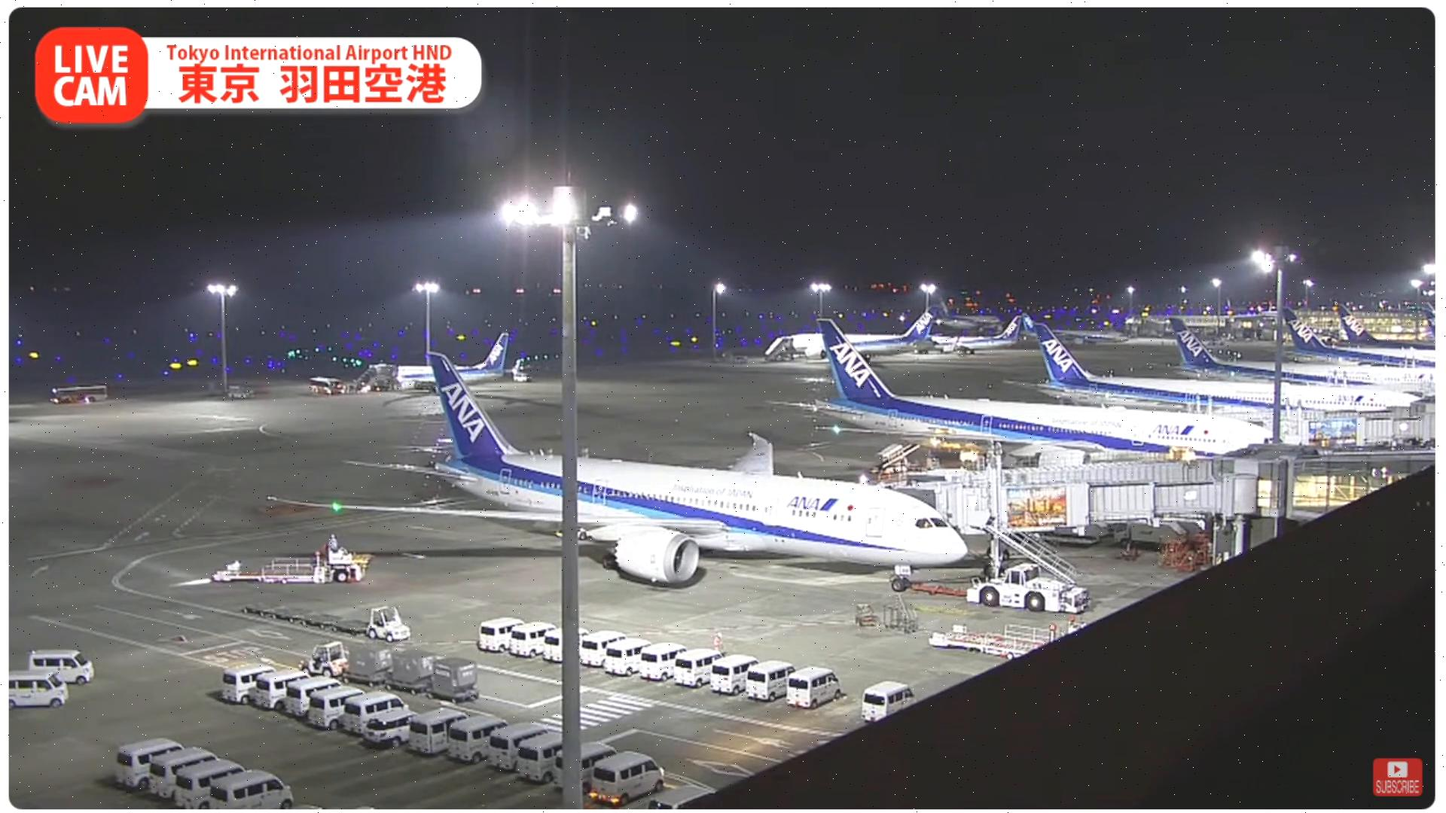APS: (966, 562, 1090, 614)
Aerobridge: (895, 475, 1256, 534), (895, 456, 1224, 487)
Airplane: (270, 351, 971, 589)
Dolly: (242, 598, 369, 637)
JCPL: (211, 533, 374, 583), (926, 623, 1055, 658)
Tractor: (365, 606, 411, 642)
Window: (1290, 455, 1437, 521)
